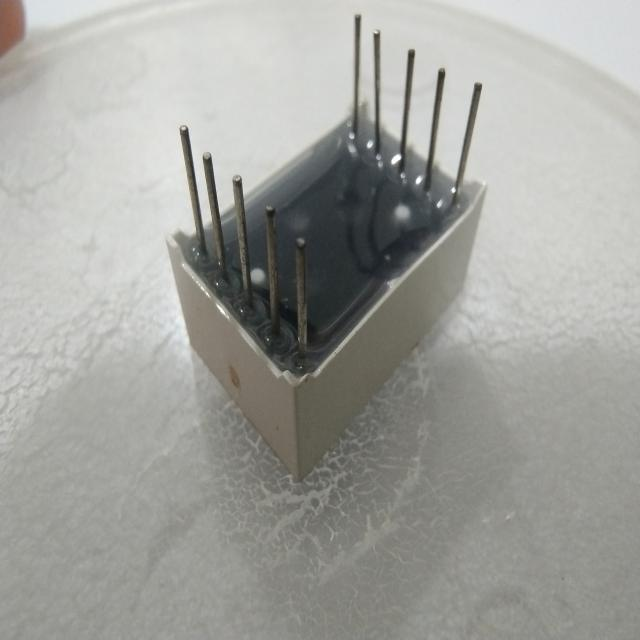7_segments: (153, 3, 503, 494)
